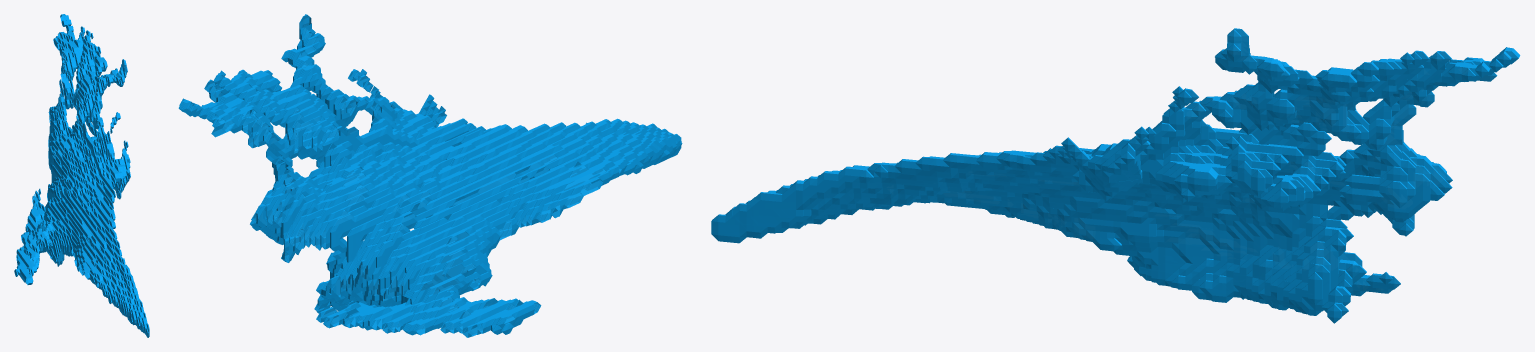
The model's file is SVV_BWM-VR02.gltf.
3 views of the same model, side by side, from view 1: azimuth 30°, elevation 25°; view 2: azimuth 150°, elevation 25°; view 3: azimuth 270°, elevation 25° (orthographic). The views are drawn at different scales.
Parts seen in each view (by area): view 1: BWM-VR02; view 2: BWM-VR02; view 3: BWM-VR02.
Boxes of the visible parts, left/top/right/bottom form: BWM-VR02: left=14, top=14, right=149, bottom=337; BWM-VR02: left=178, top=14, right=682, bottom=337; BWM-VR02: left=711, top=28, right=1520, bottom=323.
Size of the model in its own units: 28272 by 36267 by 73723.
